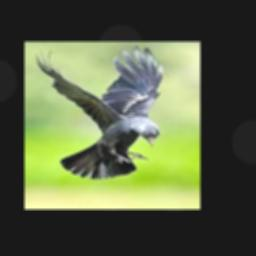Crow: (33, 45, 163, 178)
